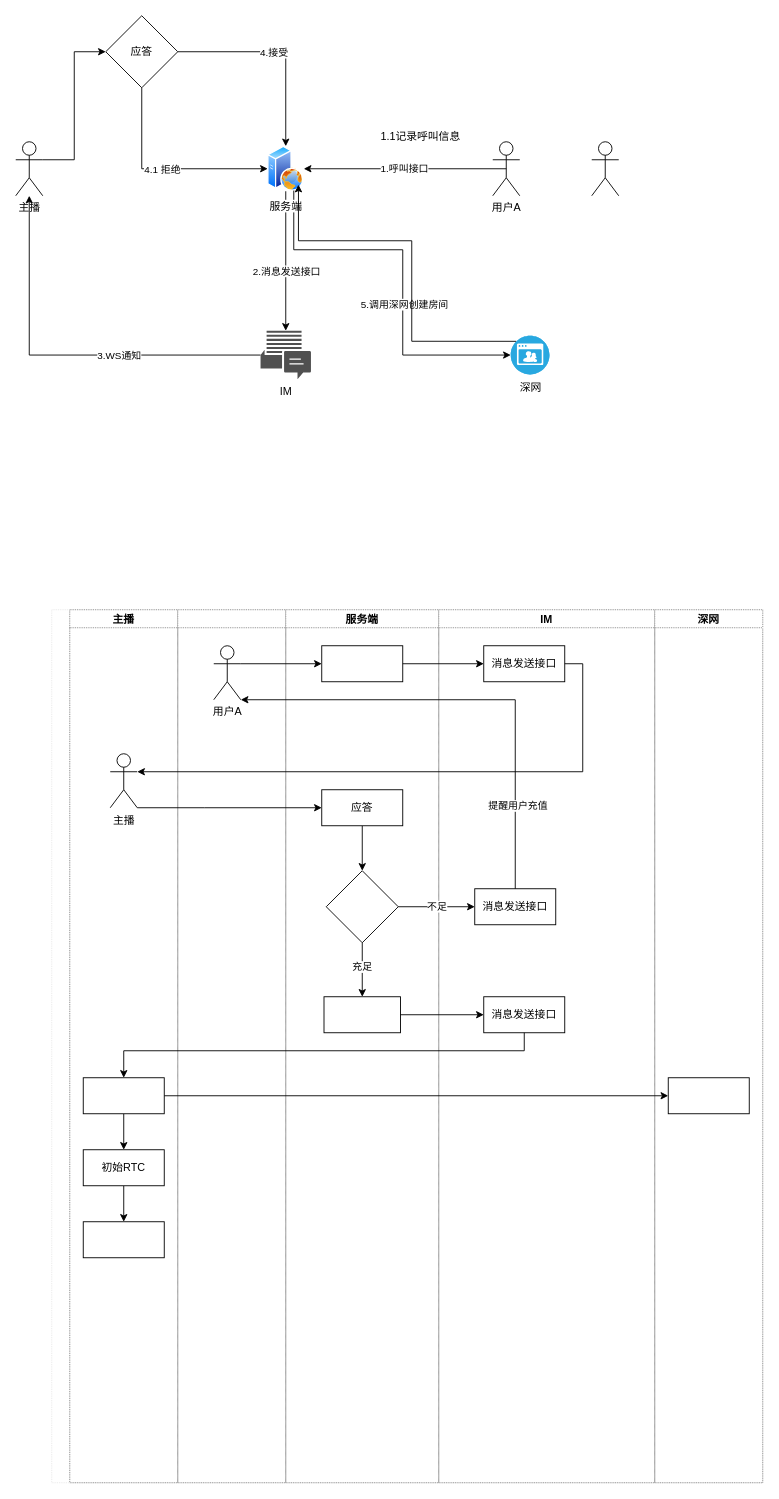
This 779x1499 diagram has some shape labels left out. The shapes that lost their labels are listed below. From the top down, each one's box as (x1, y1, x2, y2) in pixels, then its label:
(591, 141, 619, 196): 用户B
(321, 645, 403, 682): 呼叫接口
(325, 870, 398, 943): 余额检测
(323, 996, 400, 1033): 初始房间信息
(177, 609, 286, 1483): 客服
(51, 609, 763, 1483): Pool
(82, 1077, 164, 1114): 发起频道创建
(667, 1077, 749, 1114): 创建频道
(82, 1221, 164, 1258): 设置本地视图
